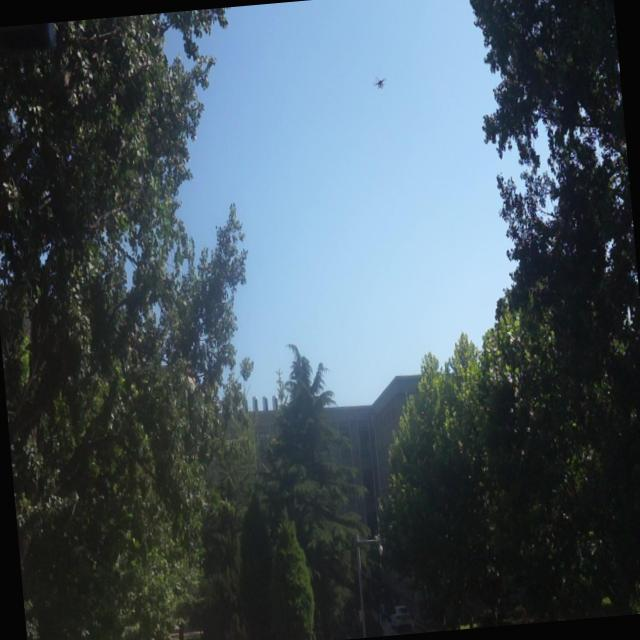drone: (369, 72, 386, 94)
